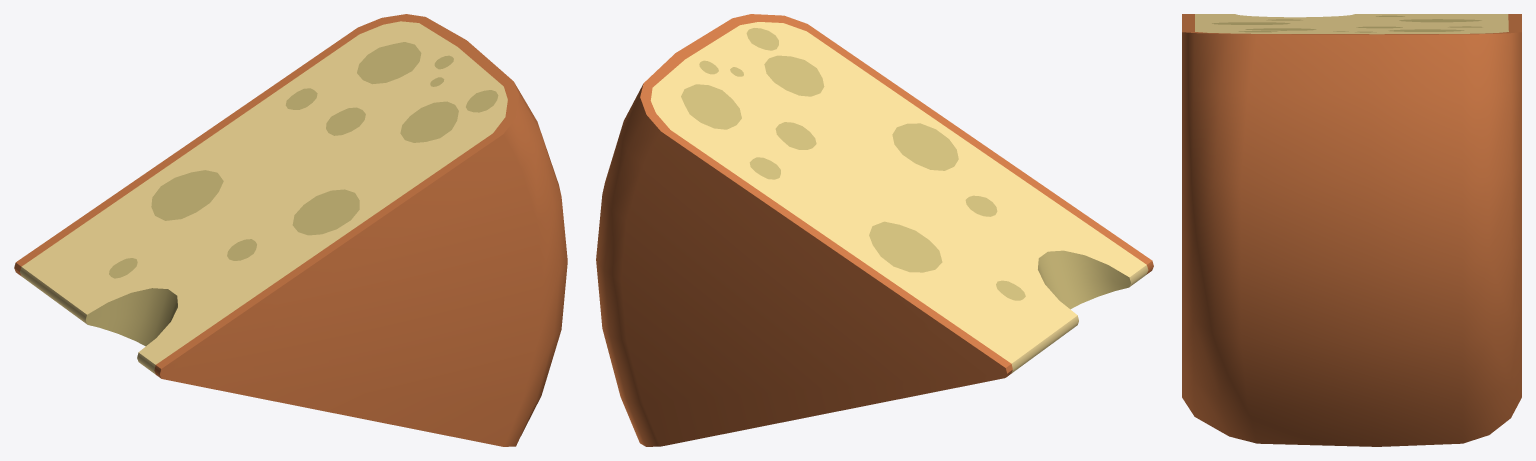
Rendered from CheeseFixed.fbx.
The picture shows the model from 3 angles, left to right: view 1: azimuth 30°, elevation 25°; view 2: azimuth 150°, elevation 25°; view 3: azimuth 270°, elevation 25°; orthographic projection. The views are drawn at different scales.
Visible parts, largest first — view 1: Cheese; view 2: Cheese; view 3: Cheese.
Part boxes in pixels (bbox=[...]): Cheese: bbox=[14, 14, 567, 446]; Cheese: bbox=[596, 14, 1153, 446]; Cheese: bbox=[1182, 14, 1521, 446].
Size of the model in its own units: 38.78 by 30.17 by 22.49.
